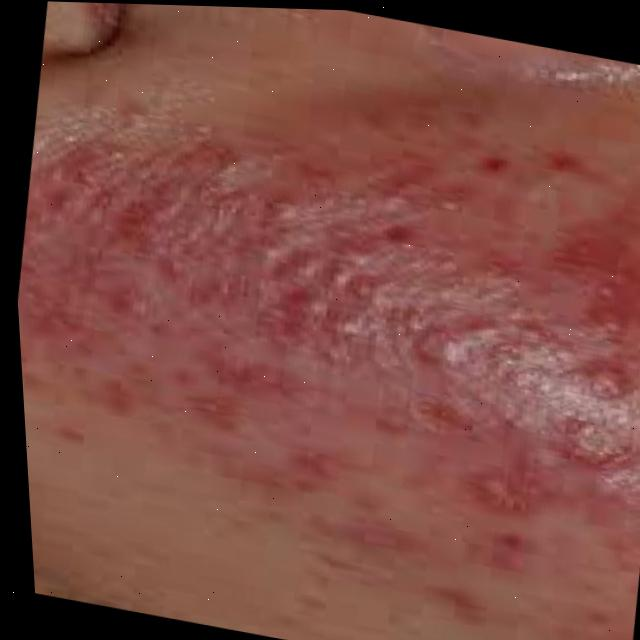Rosacea: (4, 73, 640, 635)
